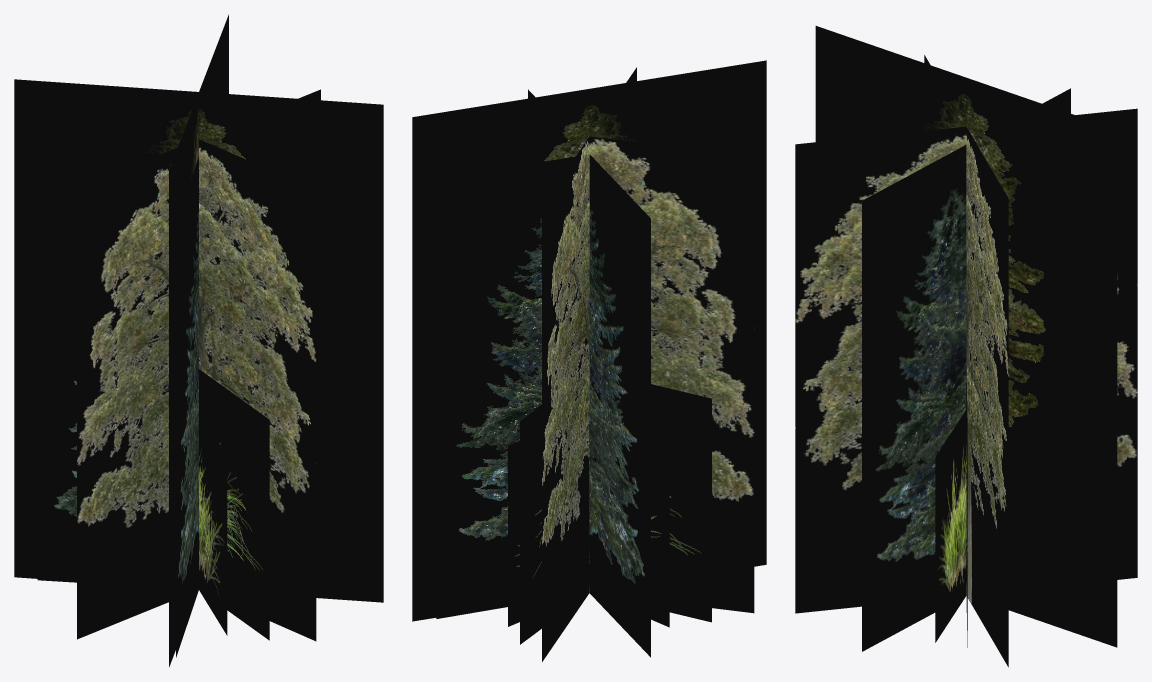
The model's file is tree_types.glb.
3 renders of one model, left to right at view 1: azimuth 30°, elevation 25°; view 2: azimuth 150°, elevation 25°; view 3: azimuth 270°, elevation 25°, orthographic. The views are drawn at different scales.
Visible parts, largest first — view 1: part4, part2, part3, part1, part0; view 2: part3, part4, part2, part1, part0; view 3: part2, part4, part3, part0.
Part boxes in pixels (bbox=[...]): part4: bbox=[77, 89, 320, 641]; part2: bbox=[14, 14, 383, 667]; part3: bbox=[37, 146, 198, 657]; part1: bbox=[199, 369, 269, 640]; part0: bbox=[199, 411, 227, 635]; part3: bbox=[436, 89, 650, 657]; part4: bbox=[542, 67, 754, 661]; part2: bbox=[412, 60, 766, 621]; part1: bbox=[520, 384, 711, 644]; part0: bbox=[508, 438, 669, 627]; part2: bbox=[815, 26, 1117, 647]; part4: bbox=[795, 55, 1137, 667]; part3: bbox=[833, 88, 1070, 651]; part0: bbox=[935, 410, 966, 642].
Bounding box in the file's own units: 29.66 × 49.57 × 29.66.
Materials: 5 (5 with a texture image).
